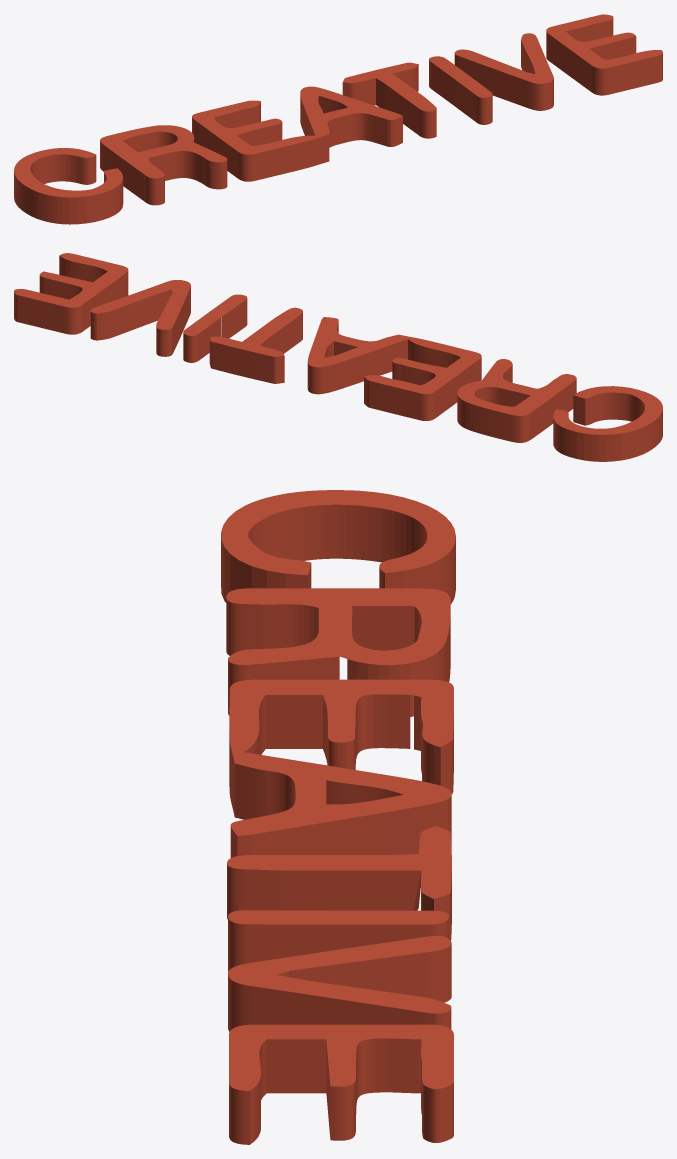
Rendered from RioCreative-01b.gltf.
The picture shows the model from 3 angles, top to bottom: view 1: azimuth 30°, elevation 25°; view 2: azimuth 150°, elevation 25°; view 3: azimuth 270°, elevation 25°; orthographic projection. The views are drawn at different scales.
Parts seen in each view (by area): view 1: Creative; view 2: Creative; view 3: Creative.
Boxes of the visible parts, x1,y1,x2,y2 form: Creative: [14, 14, 662, 224]; Creative: [14, 253, 662, 461]; Creative: [221, 490, 455, 1144].
Bounding box in the file's own units: 1.79 × 0.0748 × 0.2948.
Materials: 1 (1 with a texture image).
